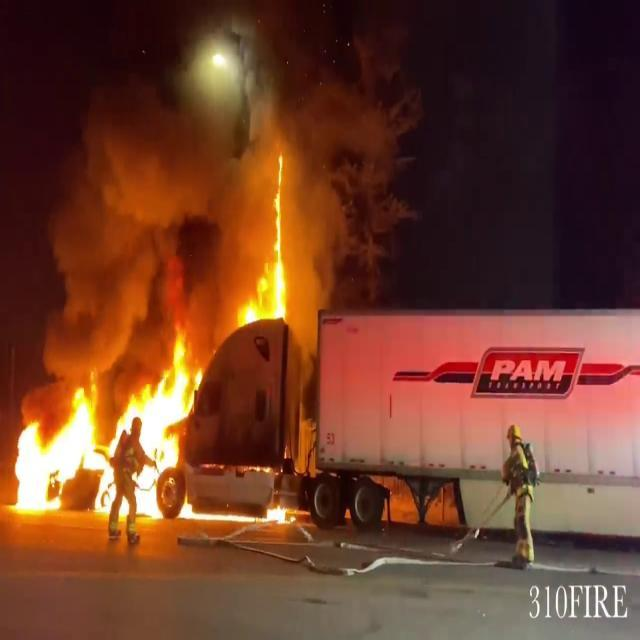Fire: (2, 331, 208, 524), (239, 161, 303, 339)
Smoke: (56, 1, 393, 321)
